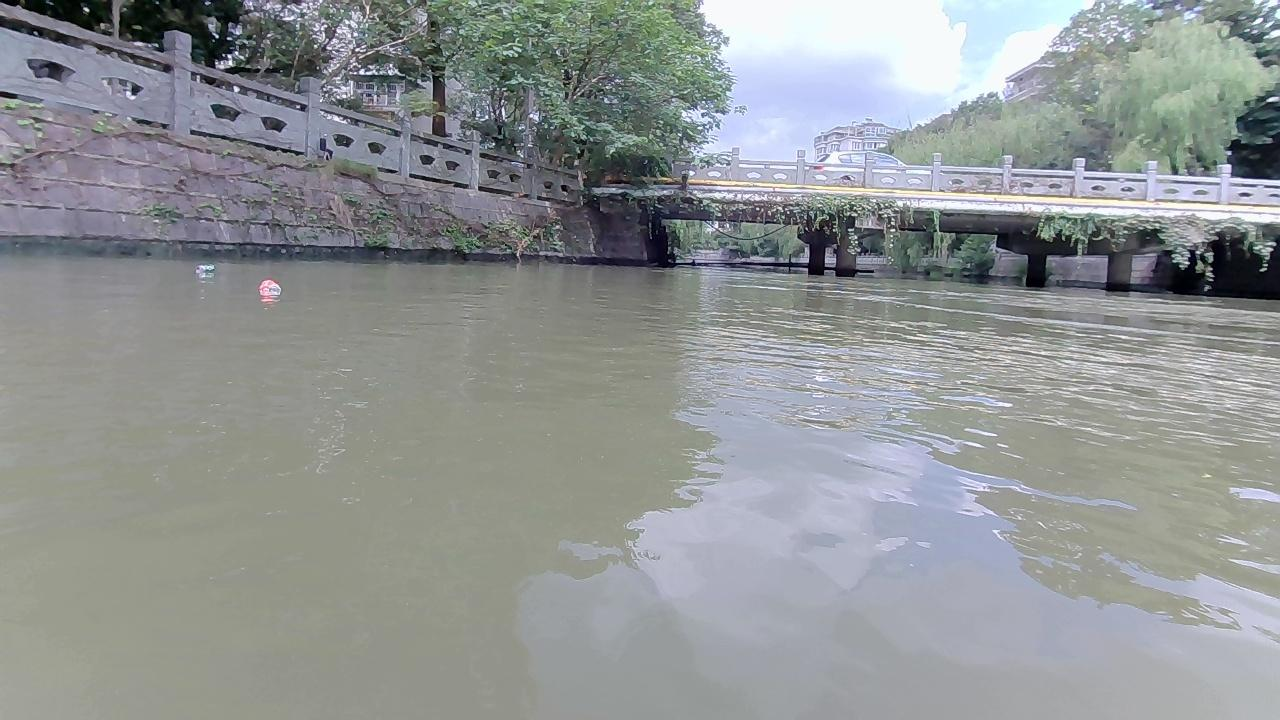bottle: (258, 278, 281, 290), (194, 264, 214, 271)
